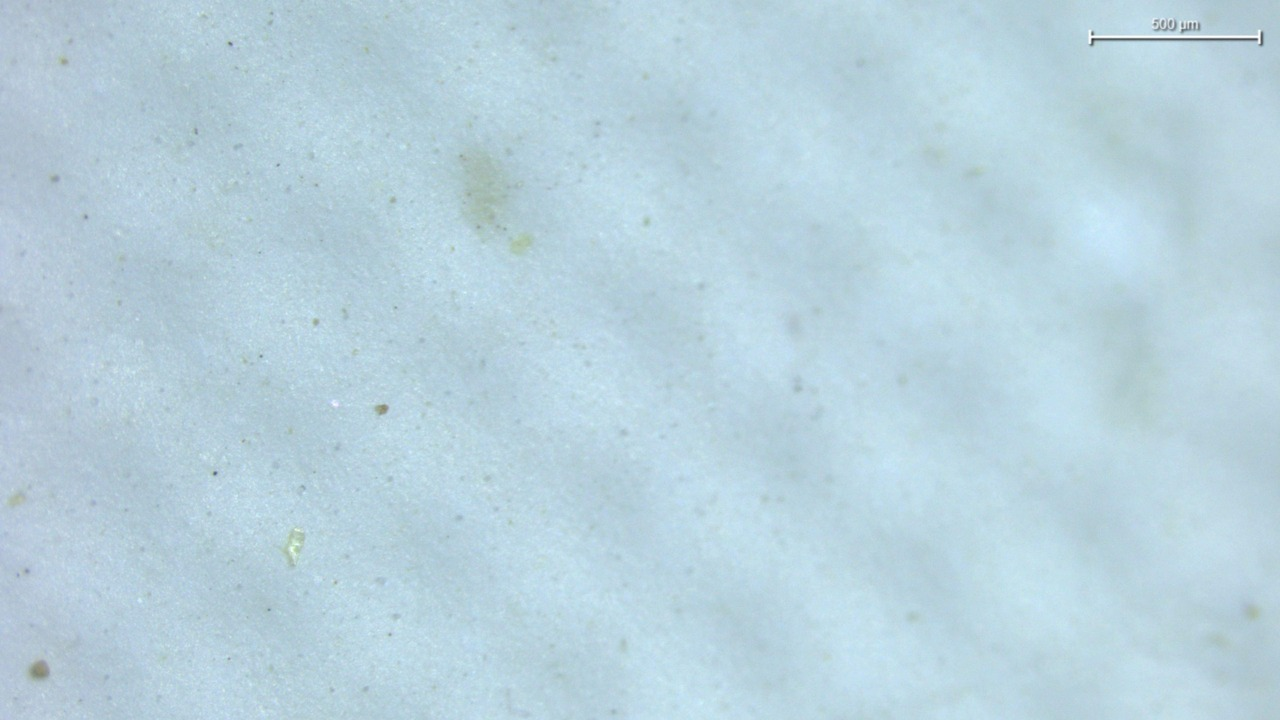microplastic_fragment: (282, 528, 305, 567)
